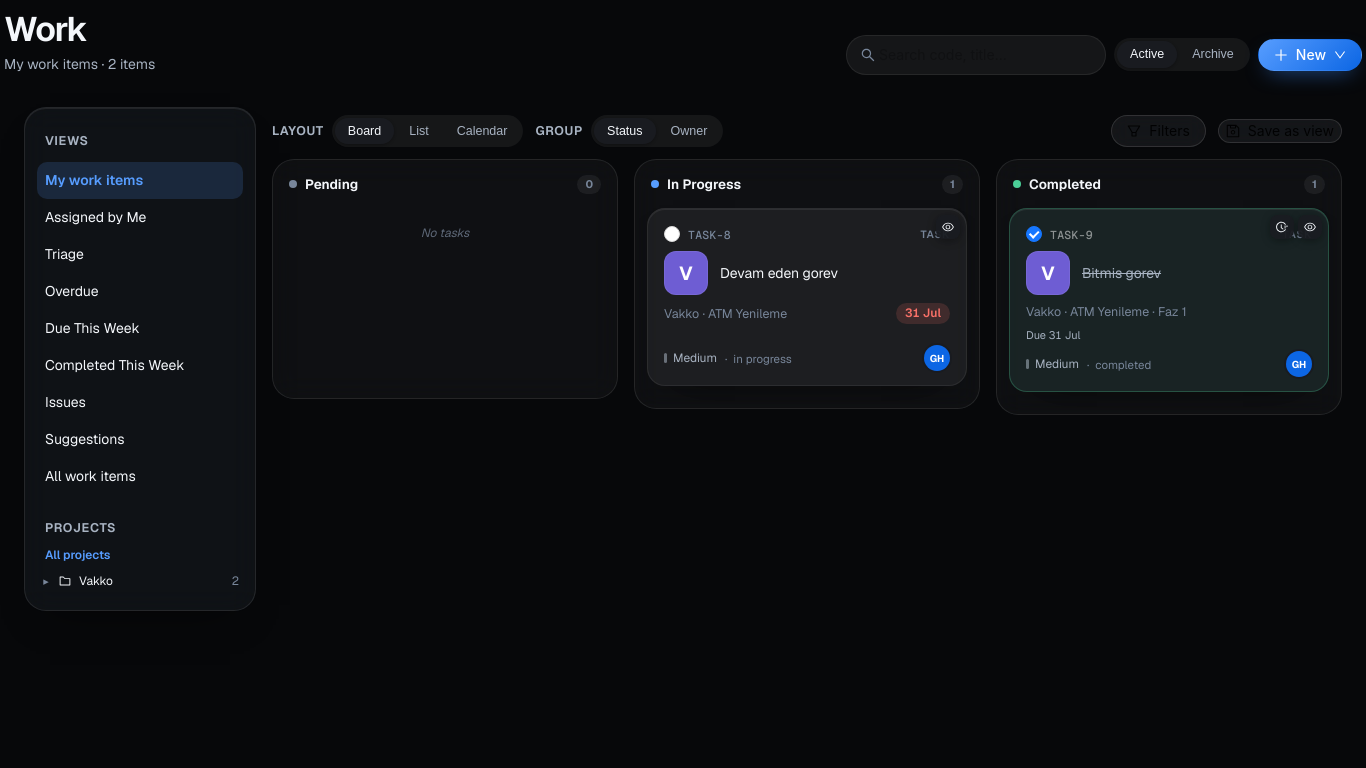
Scenario: completed gorev → Log Time acilisi › completed kartin ana Log Time aksiyonu modali acar
Click the button named "Log time — Bitmis gorev" at (1282, 227), box [1270, 215, 1294, 239]
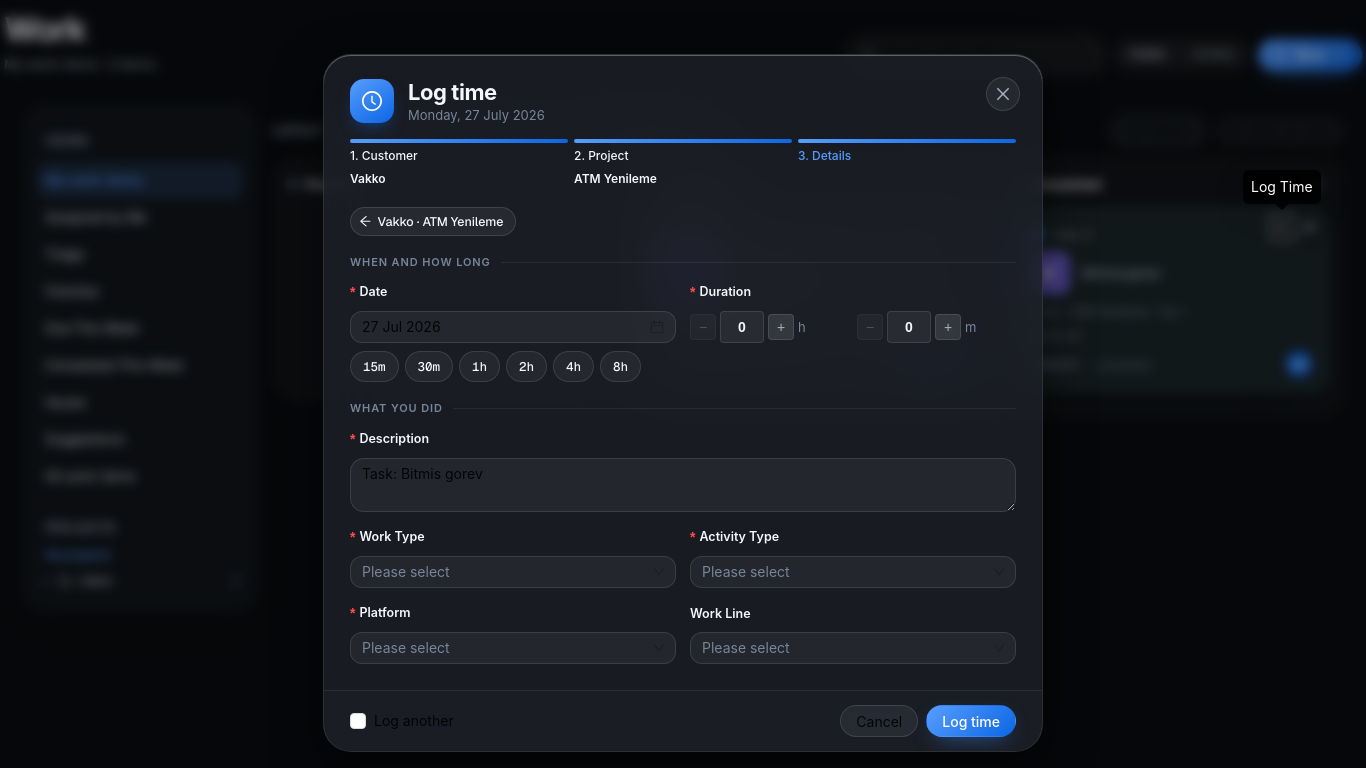
Expected: the dialog "Log time" is shown, [323, 54, 1043, 764]
